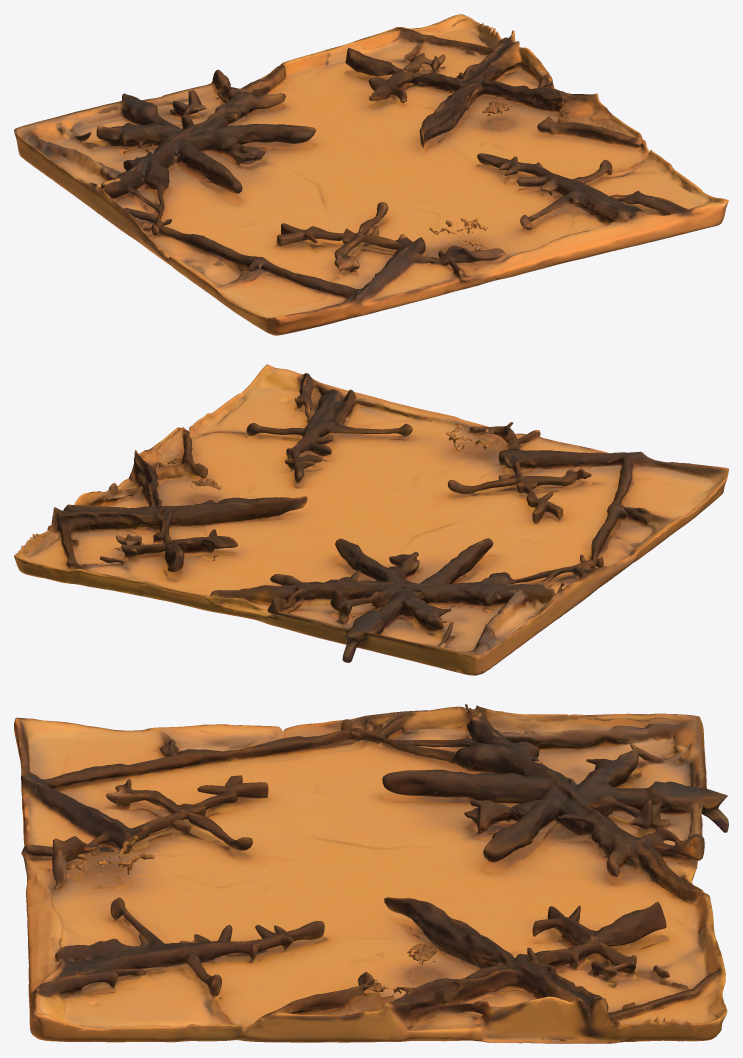
File: Meshy_AI_a_flat_ice_tile_at_a_1115233225_texture.glb
The picture shows the model from 3 angles, top to bottom: view 1: azimuth 30°, elevation 25°; view 2: azimuth 150°, elevation 25°; view 3: azimuth 270°, elevation 25°; orthographic projection. The views are drawn at different scales.
Size of the model in its own units: 2 by 0.1757 by 2.
Materials: 1 (1 with a texture image).
